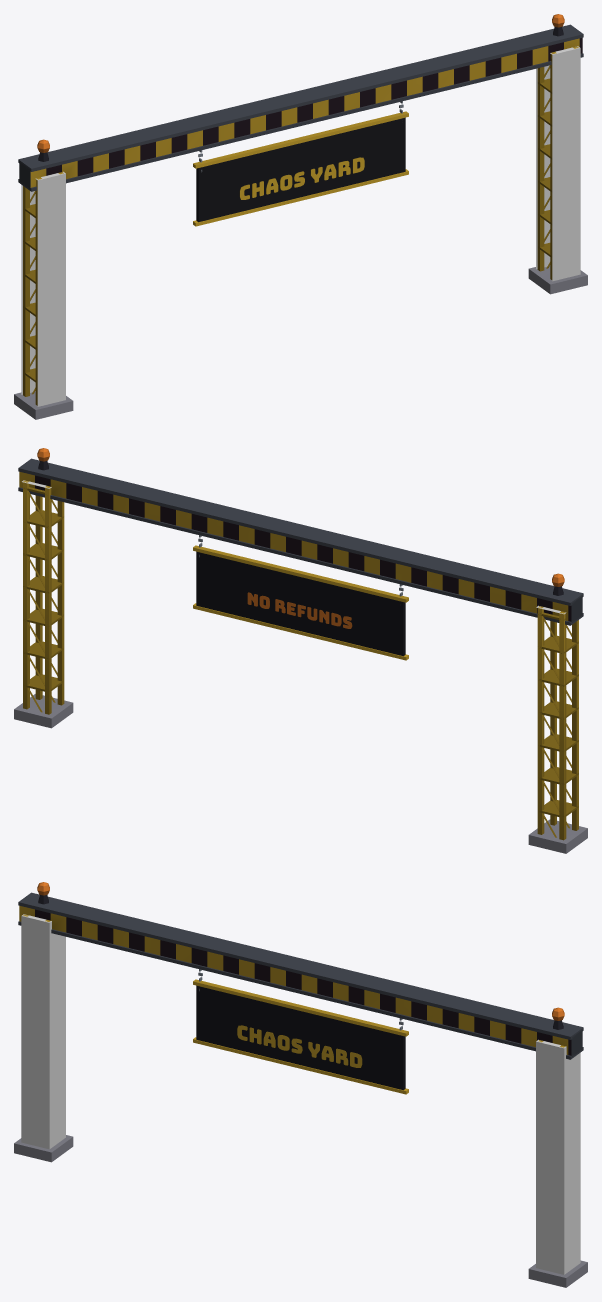
The model's file is y_gate.glb.
The picture shows the model from 3 angles, top to bottom: view 1: azimuth 30°, elevation 25°; view 2: azimuth 150°, elevation 25°; view 3: azimuth 330°, elevation 25°; orthographic projection.
Visible parts, largest first — view 1: y_gate, COL_1, COL_0; view 2: y_gate; view 3: y_gate, COL_1, COL_0.
Part boxes in pixels (x1=…): y_gate: x1=14, y1=14, x2=587, y2=419; COL_1: x1=536, y1=46, x2=580, y2=281; COL_0: x1=21, y1=171, x2=65, y2=406; y_gate: x1=14, y1=448, x2=587, y2=853; y_gate: x1=14, y1=882, x2=587, y2=1287; COL_1: x1=536, y1=1039, x2=580, y2=1274; COL_0: x1=21, y1=914, x2=65, y2=1149.
Bounding box in the file's own units: 17.6 × 8.17 × 1.2.
